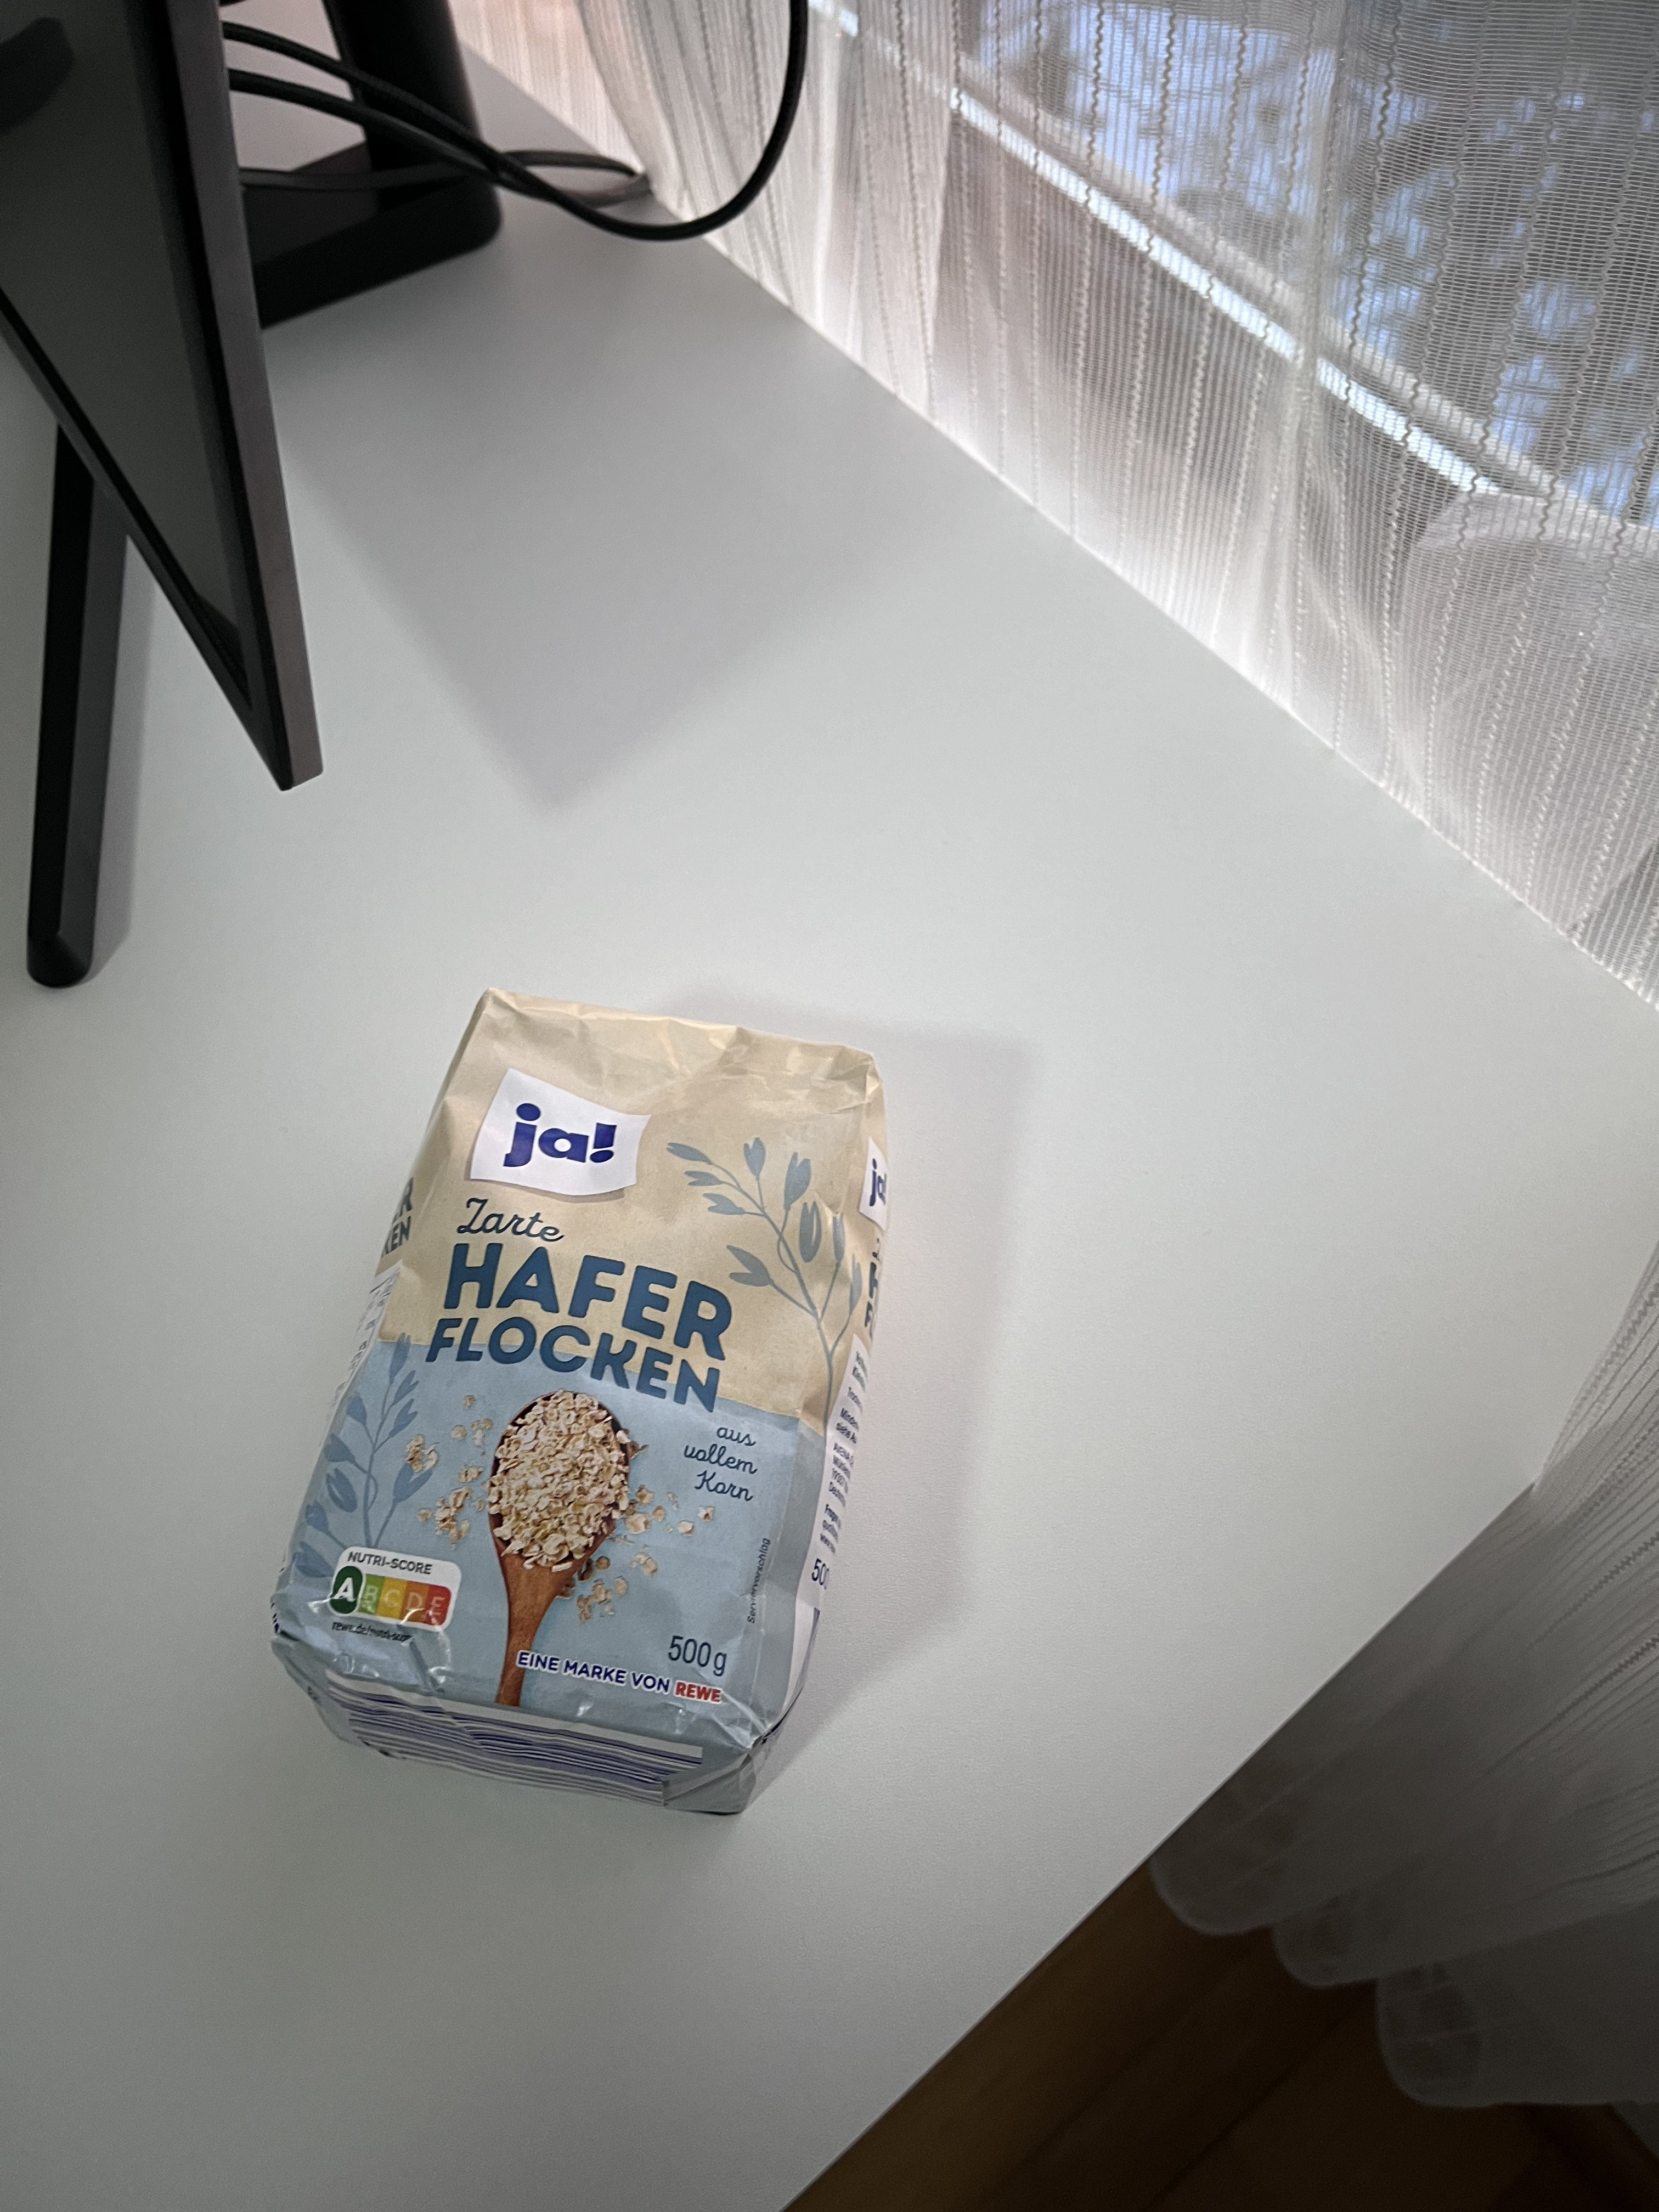haferflocken_ja: (270, 991, 889, 1824)
